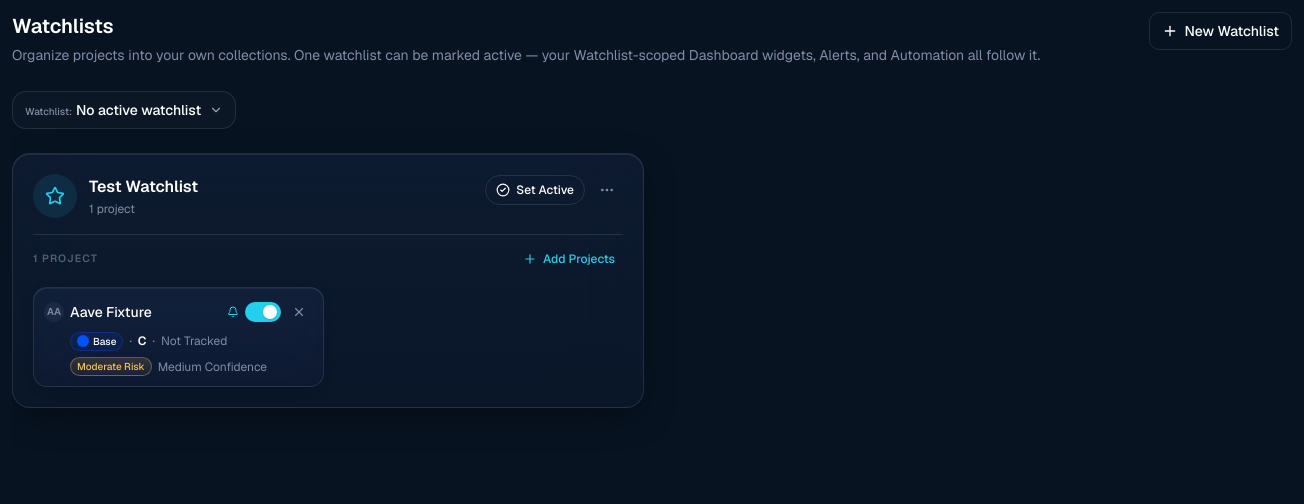
Test: WatchlistsWorkspace › still removes a project from the watchlist via the remove button (CRUD unaffected by the rendering change)
Check: the text "Aave Fixture" is shown, box [70,303,152,321]
What coordinates should you click on to do the following:
click the button named "Remove Aave Fixture from Test Watchlist"
I would click on:
 (299, 312)
Its box is [285,298,313,326].
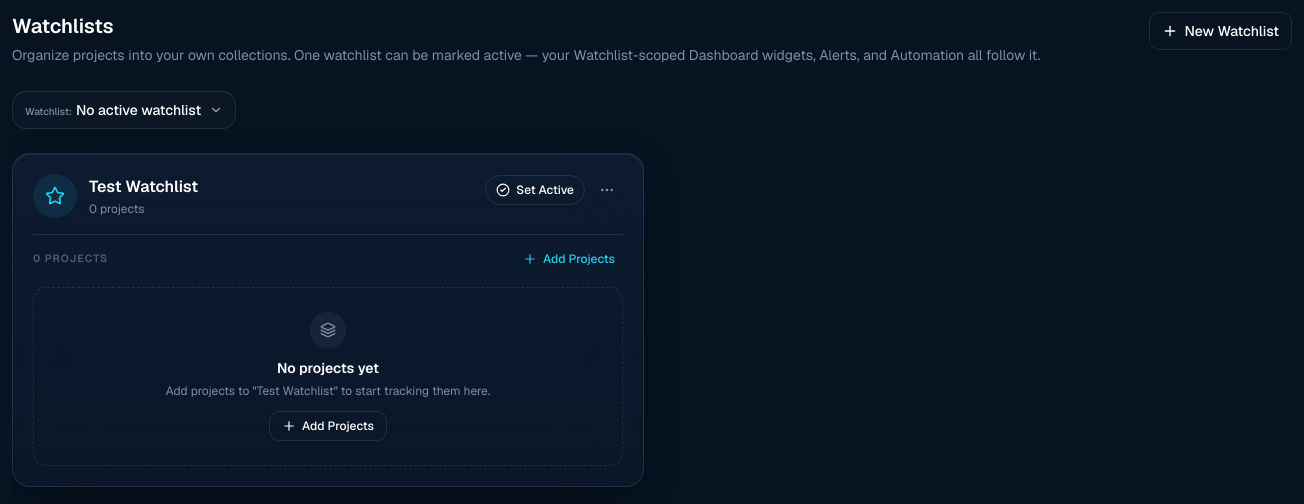
Check: the text "No projects yet" is shown, box [277,359,379,377]
